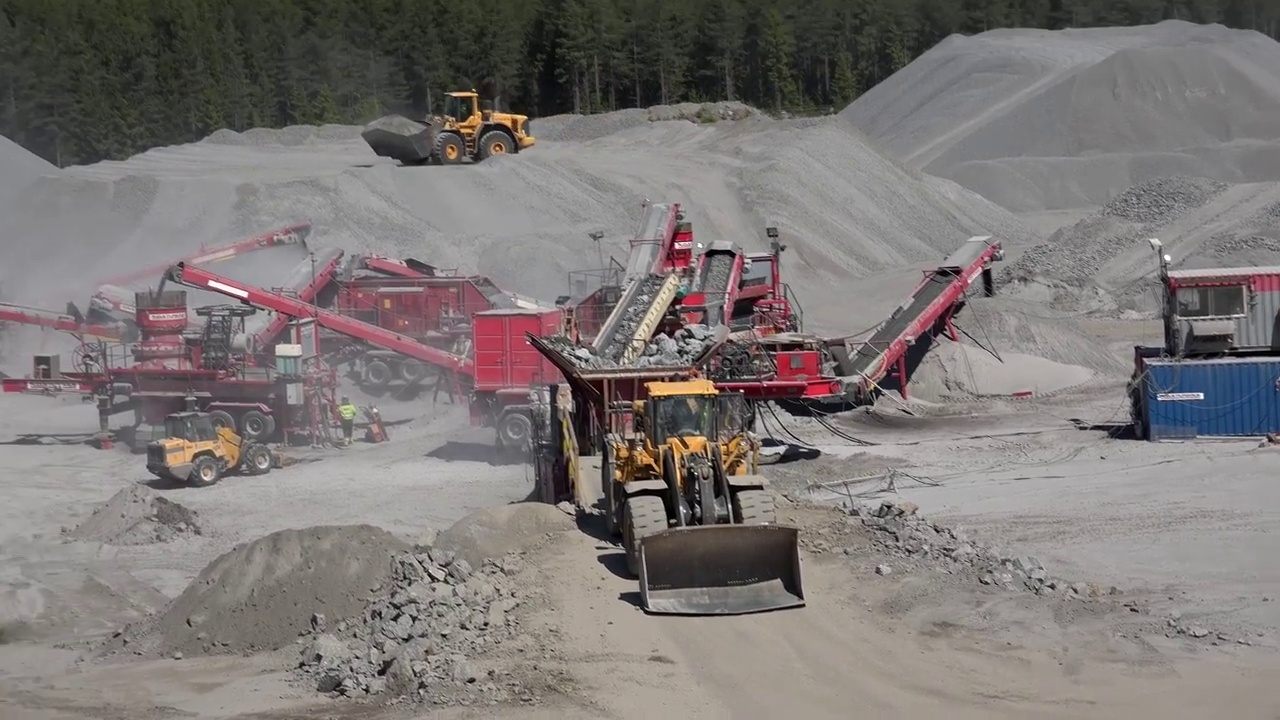truck: (474, 301, 561, 415)
wheel loader: (610, 383, 808, 619), (359, 90, 536, 162), (150, 412, 289, 483)
